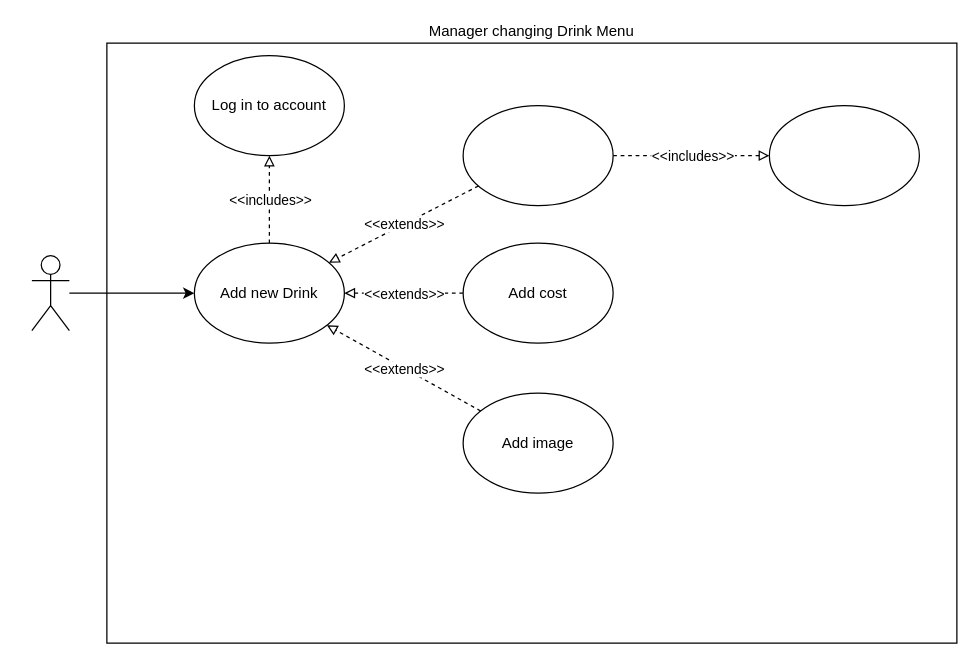
This 979x665 diagram has some shape labels left out. The centre of each missing label's shape, as x and y in pixels:
Add ingredients: point (537, 155)
Manager: point (50, 292)
Query database to verify ingredients exist: point (843, 155)
